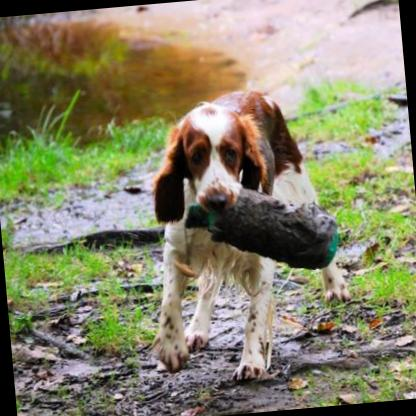Welsh_springer_spaniel: (134, 85, 353, 384)
